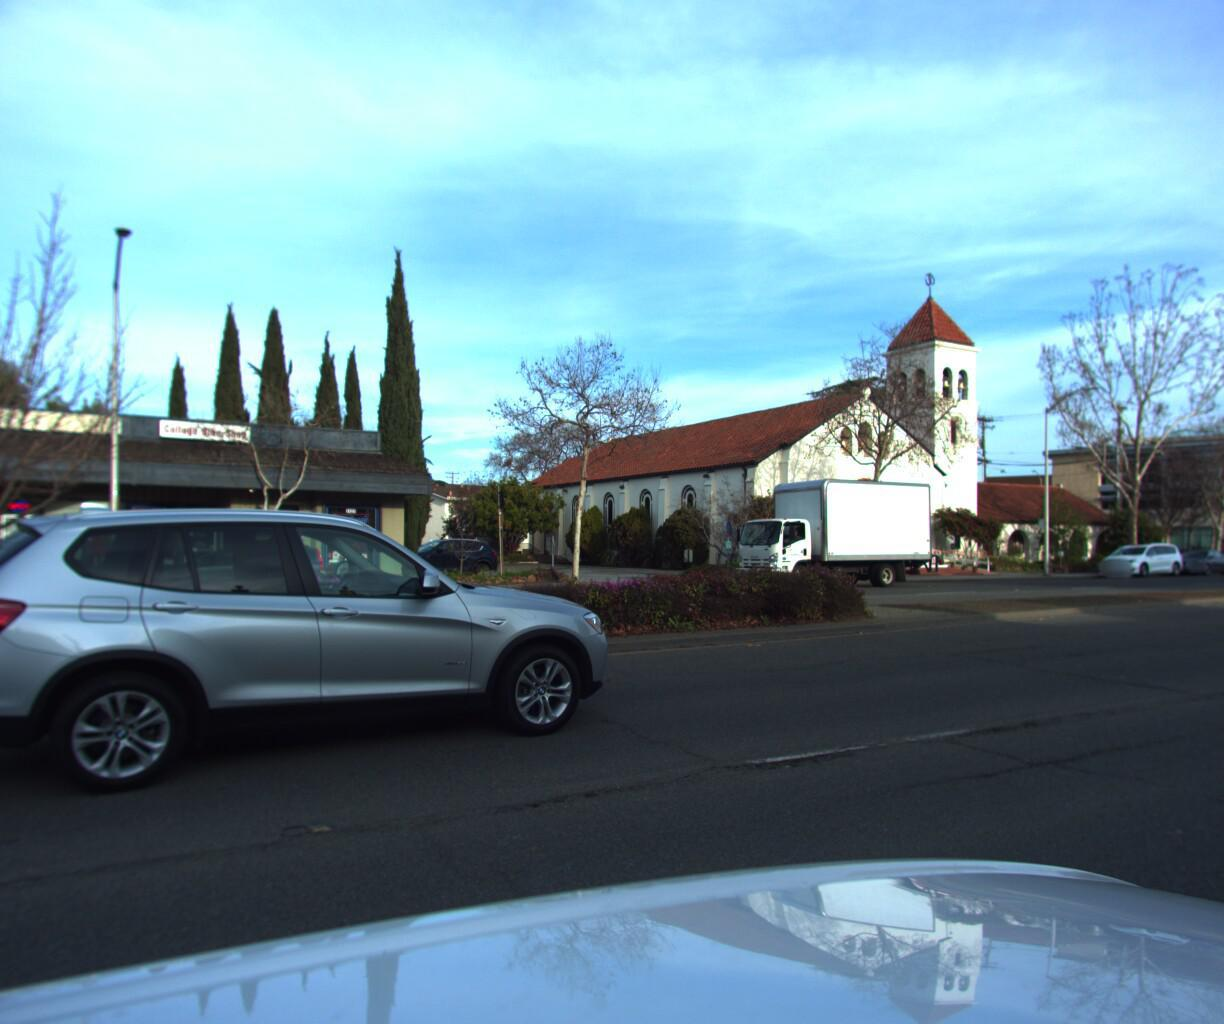car: (0, 488, 624, 827), (372, 535, 508, 582), (1089, 538, 1185, 575), (1155, 544, 1224, 573), (1217, 538, 1224, 570)
truck: (725, 474, 940, 592)
